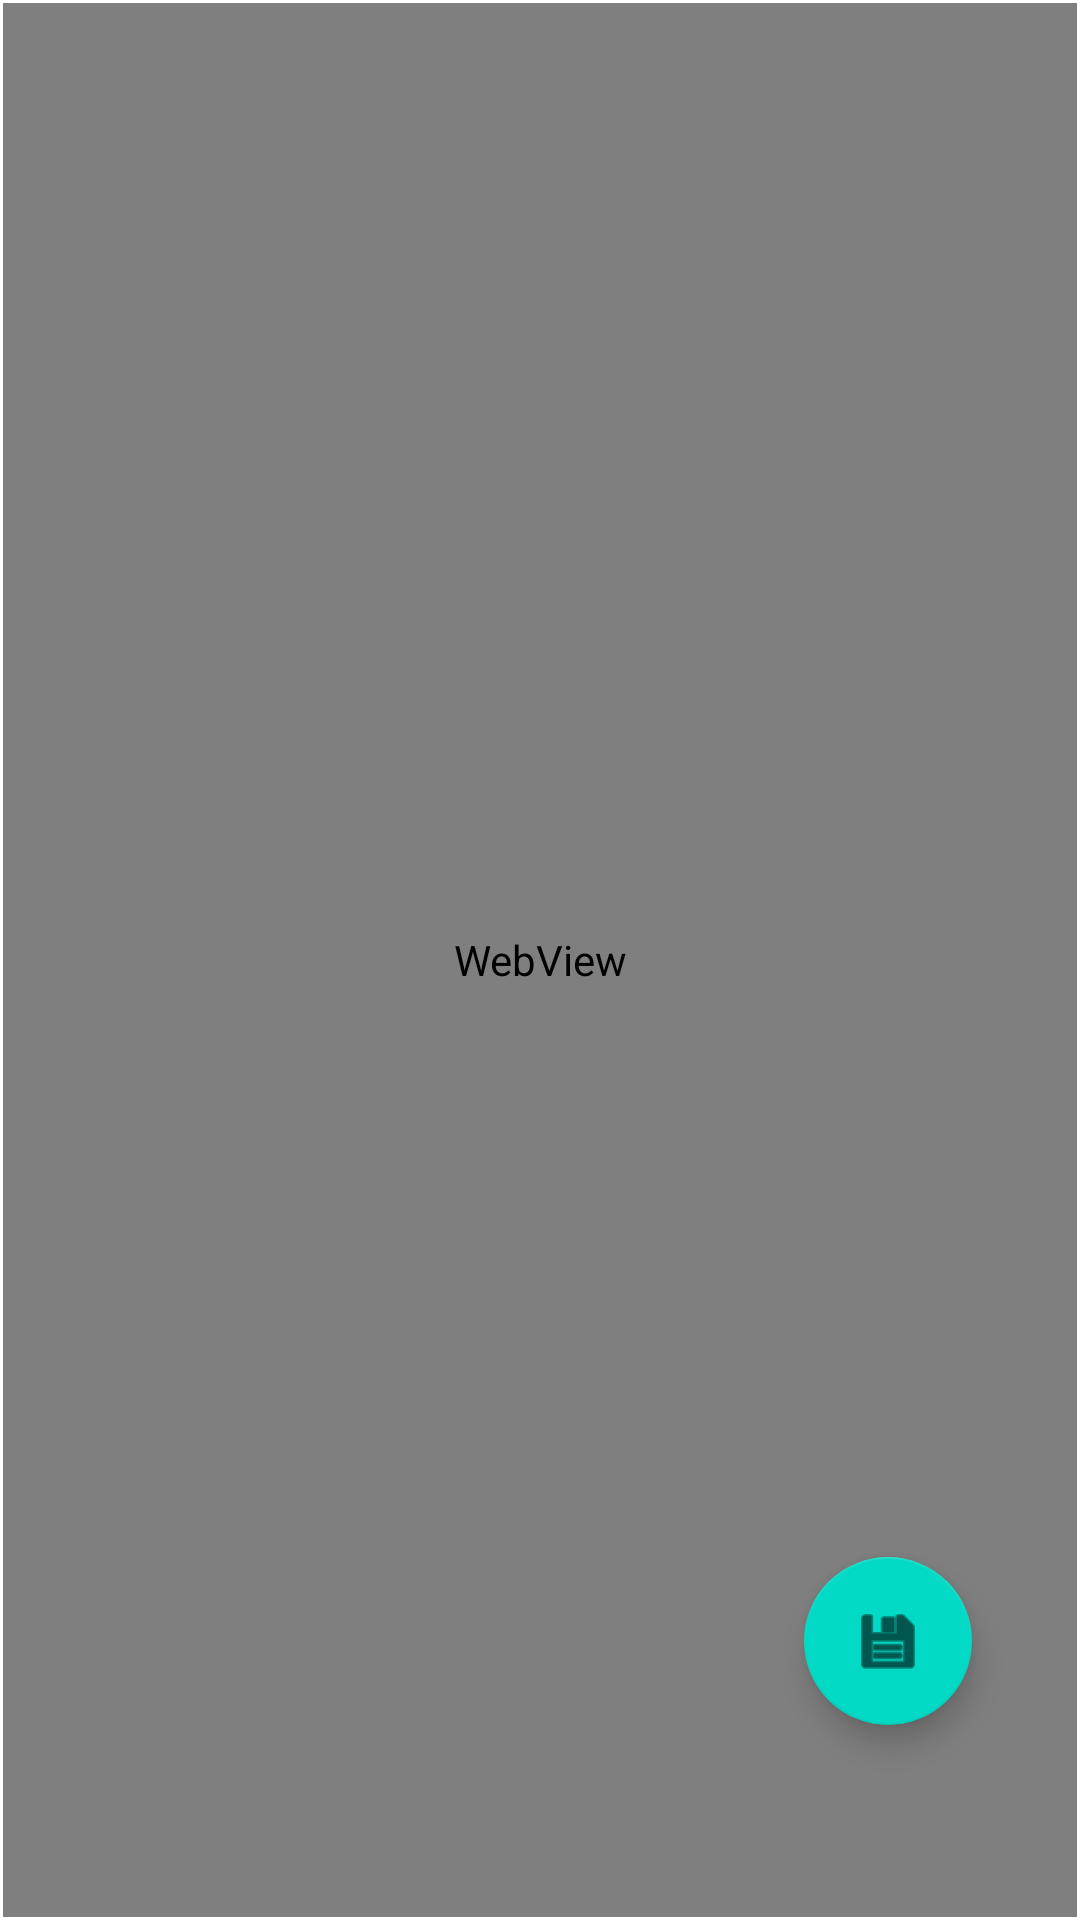

Icons on this 1080*1920 Android screen, each with its box as (x1, y1, x2, y2):
savearticle: (804, 1557, 972, 1725)
